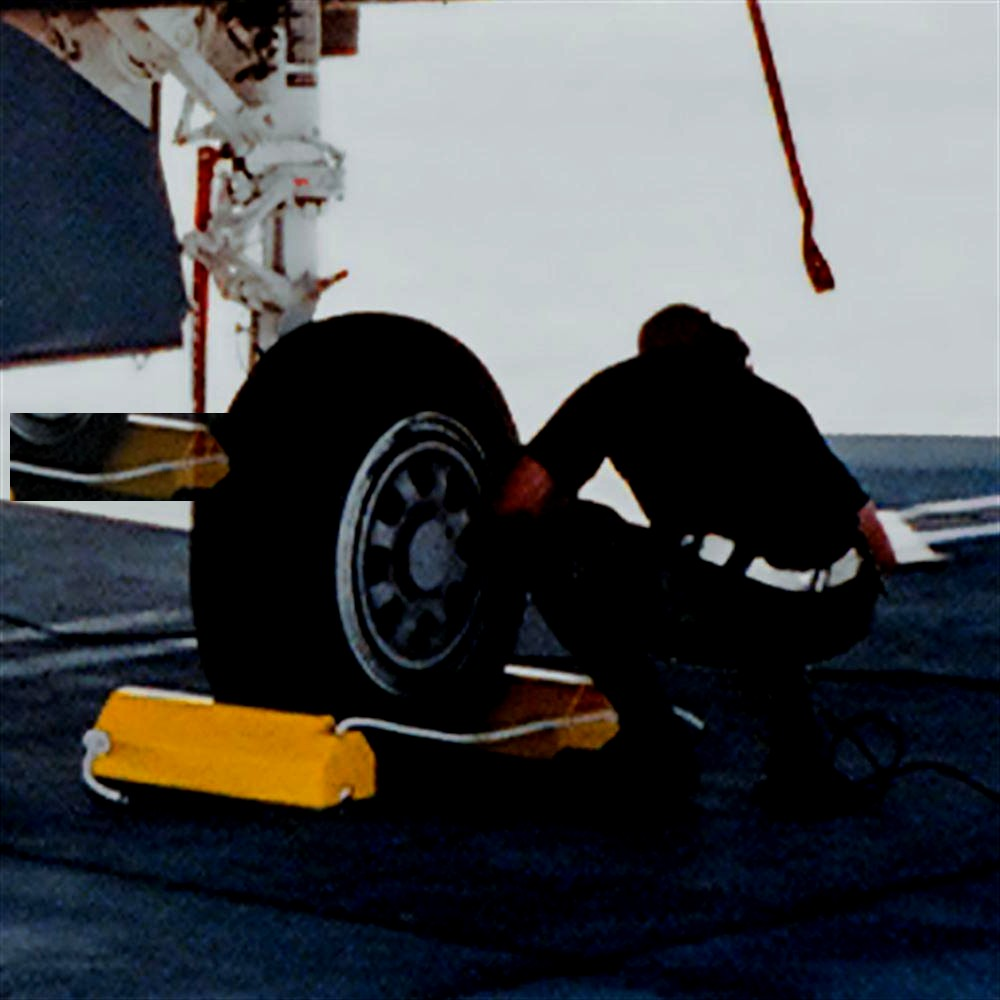chock: (74, 684, 381, 819), (371, 664, 633, 764), (10, 413, 242, 501)
wheel: (194, 313, 533, 737)
